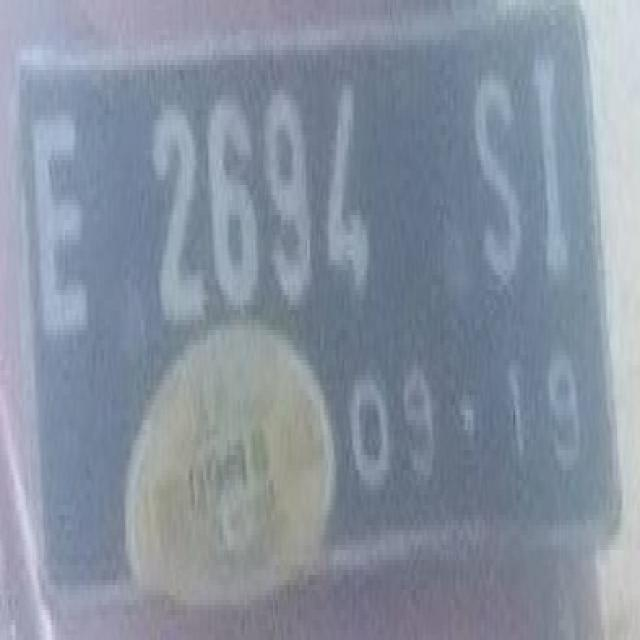plate: (12, 5, 620, 565)
